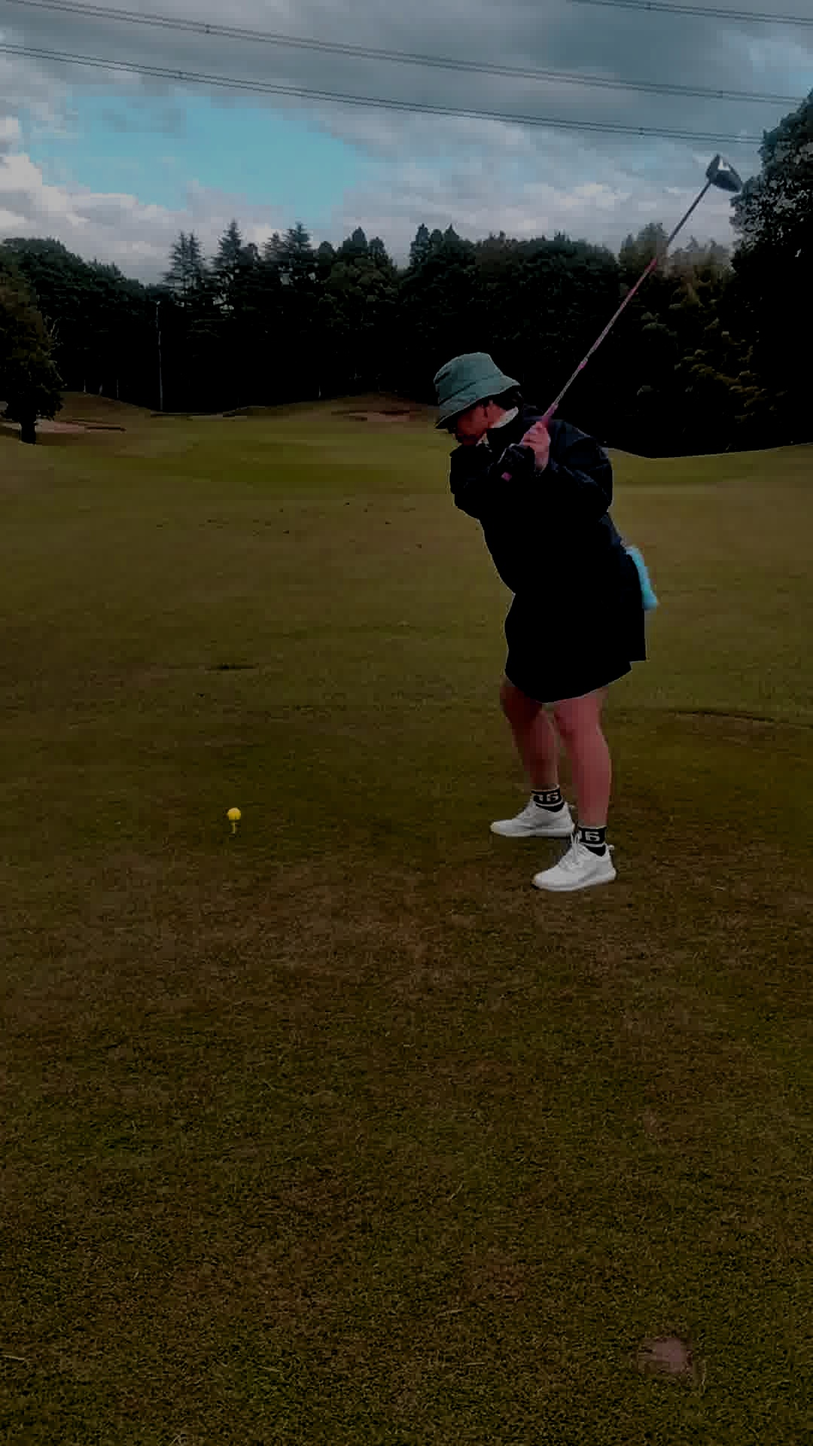clubhead: (515, 102, 767, 332)
